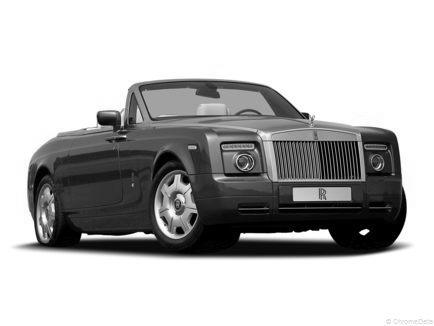car: (28, 78, 409, 257)
